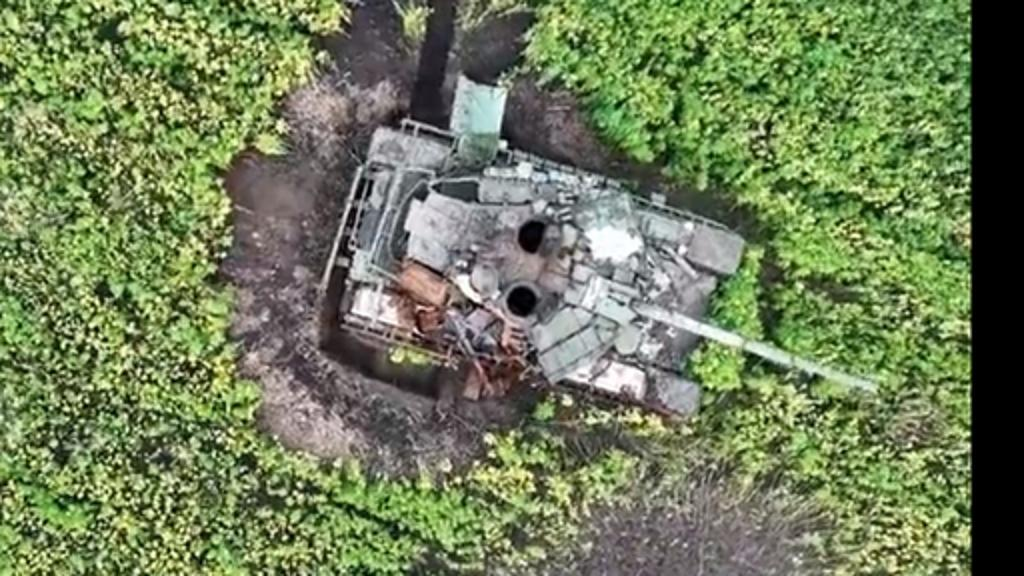TANK: (298, 98, 886, 434)
